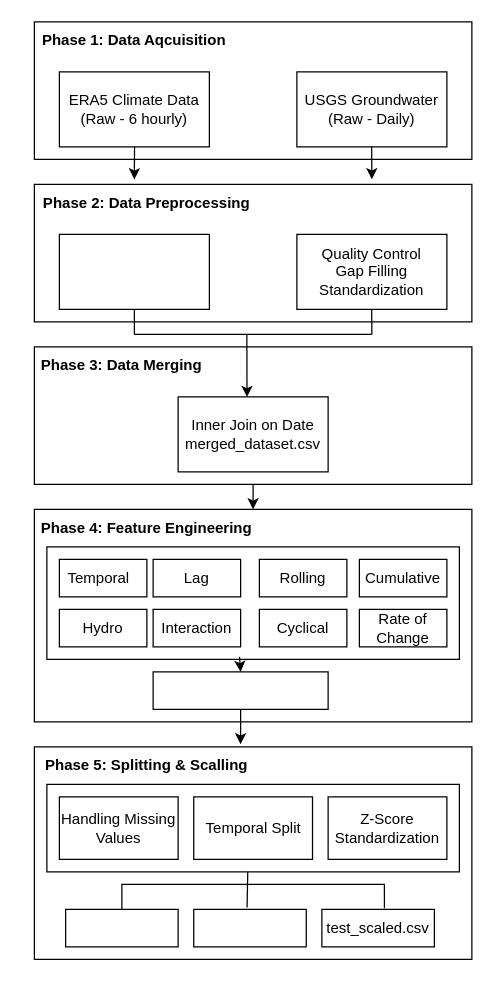
Some shapes in this 494 by 981 pixel diagram are drawn without their labels. The shapes that lost their labels are listed below. From the top down, each one's box as (x1, y1, x2, y2) in pixels, then its label:
(58, 233, 209, 309): Temporal Agg. Unit Conversion Derived Variables
(152, 671, 328, 709): engineered_dataset.csv
(64, 908, 178, 947): train_scaled.csv
(192, 908, 306, 947): val_scaled.csv
